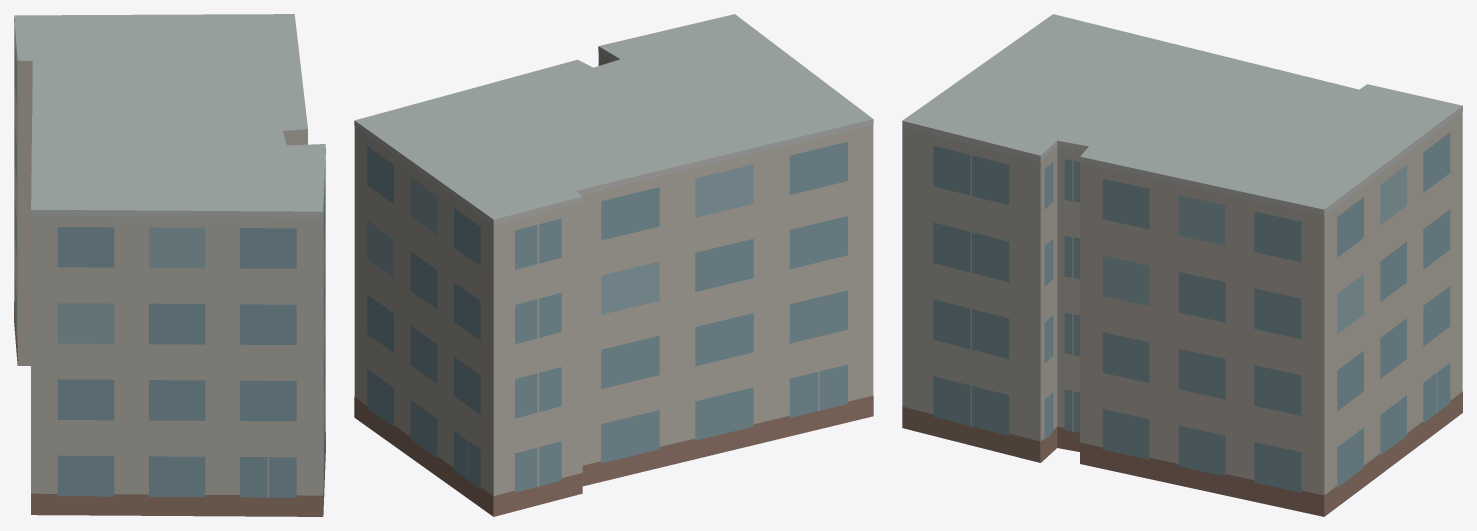
File: survey-upis-33023161.glb
The picture shows the model from 3 angles, left to right: view 1: azimuth 30°, elevation 25°; view 2: azimuth 150°, elevation 25°; view 3: azimuth 270°, elevation 25°; orthographic projection. The views are drawn at different scales.
Parts seen in each view (by area): view 1: survey-upis-33023161.tmp; view 2: survey-upis-33023161.tmp; view 3: survey-upis-33023161.tmp.
Boxes of the visible parts, x1,y1,x2,y2 form: survey-upis-33023161.tmp: (14, 14, 325, 516); survey-upis-33023161.tmp: (354, 14, 873, 516); survey-upis-33023161.tmp: (902, 14, 1462, 516).
Bounding box in the file's own units: 17.49 × 12.8 × 21.17.
